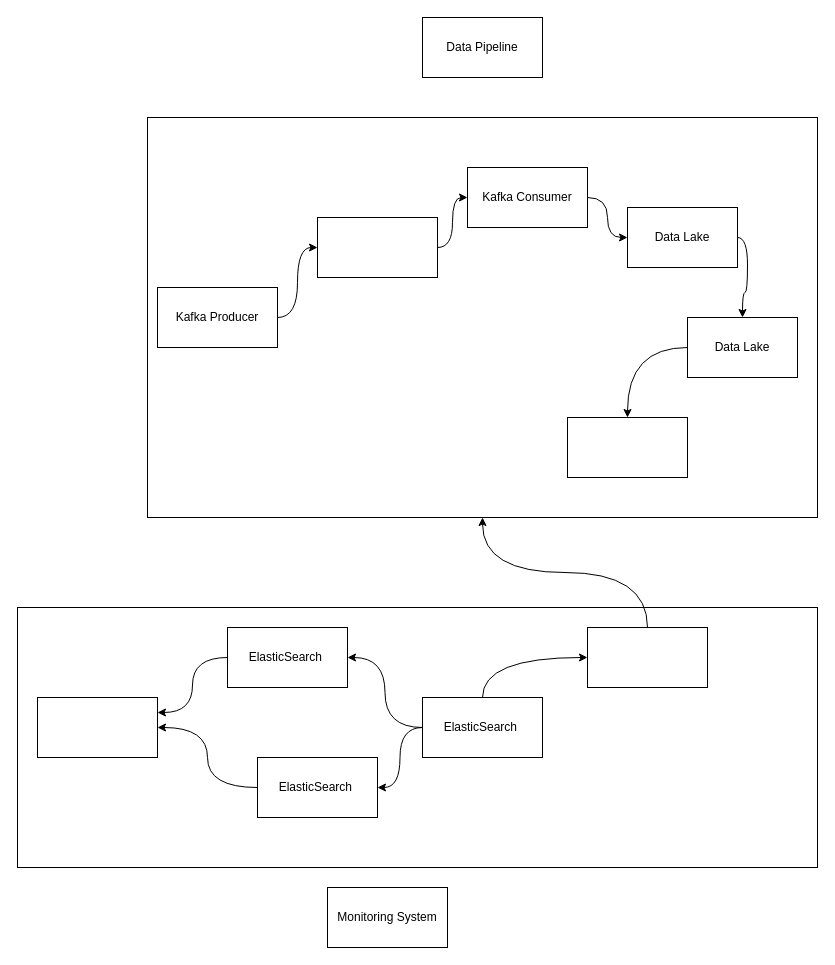
The diagram is 835 pixels wide and 965 high, and some of its shapes have lost their labels. Each missing label, with the centre of its shape:
Data WareHouse: the point at 627,447
Docker: the point at 647,657
Kafka Broker: the point at 377,247
Kibana: the point at 97,727
